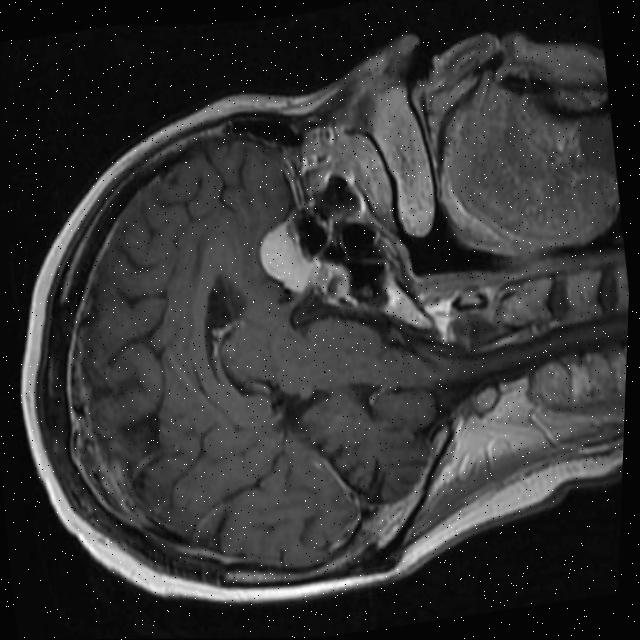Meningioma: (241, 219, 310, 301)
Pituitary: (307, 246, 358, 306)
